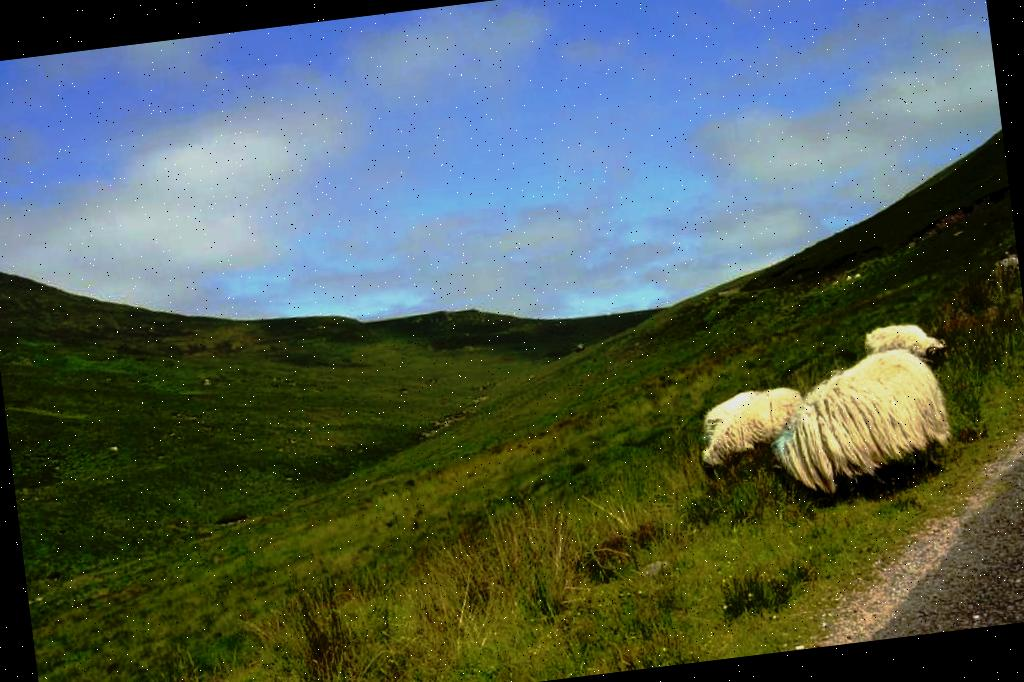Sheep: (756, 344, 960, 511), (698, 382, 812, 482), (855, 318, 952, 374)
